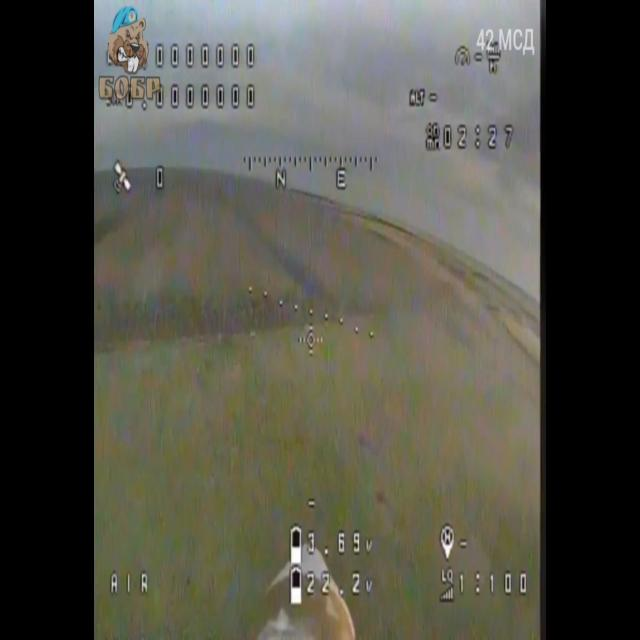cars: (249, 329, 258, 338), (304, 324, 312, 332)
